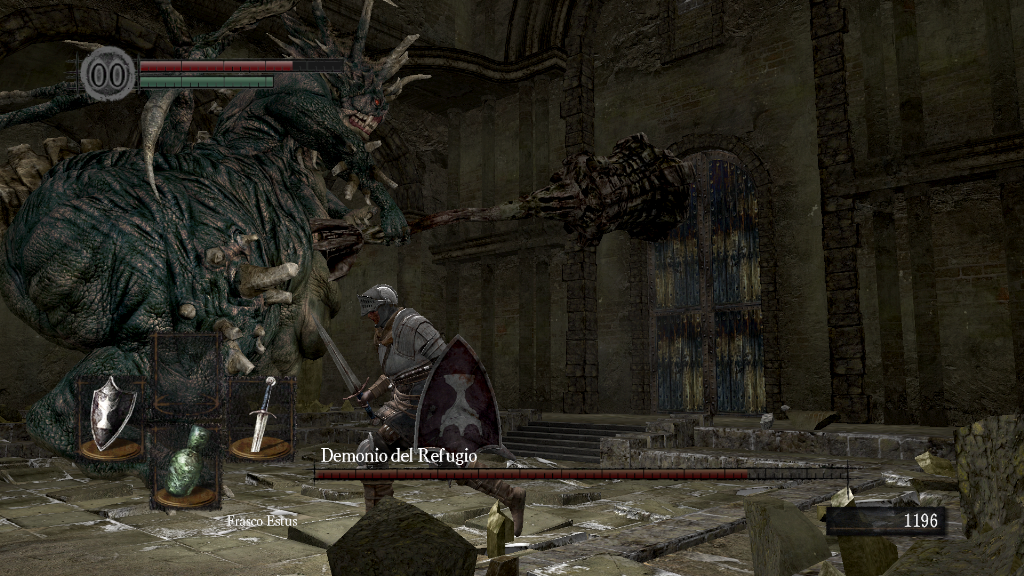asylumDemon: (1, 2, 703, 467)
bossHP: (314, 469, 847, 479)
health: (138, 58, 343, 71)
humanity: (80, 45, 136, 102)
player: (302, 280, 527, 536)
souls: (825, 506, 945, 536)
stamina: (138, 74, 274, 88)
